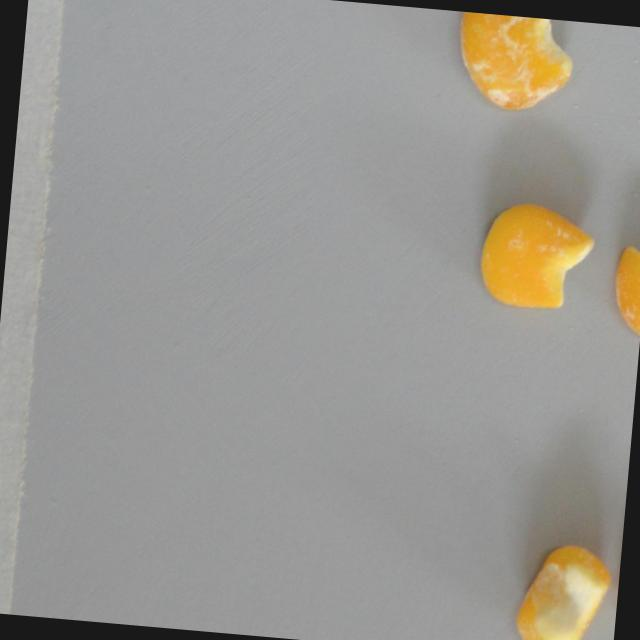pelicula: (472, 193, 600, 316), (448, 11, 583, 121), (510, 536, 618, 640), (600, 215, 640, 345)
